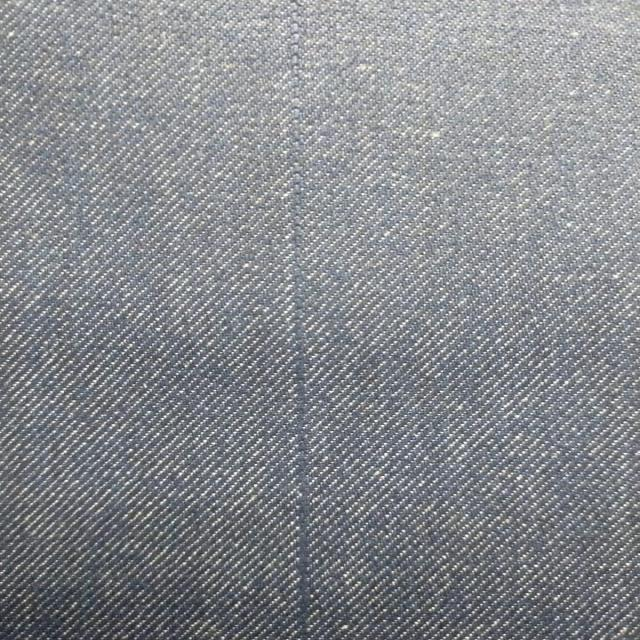Line: (287, 0, 311, 640)
